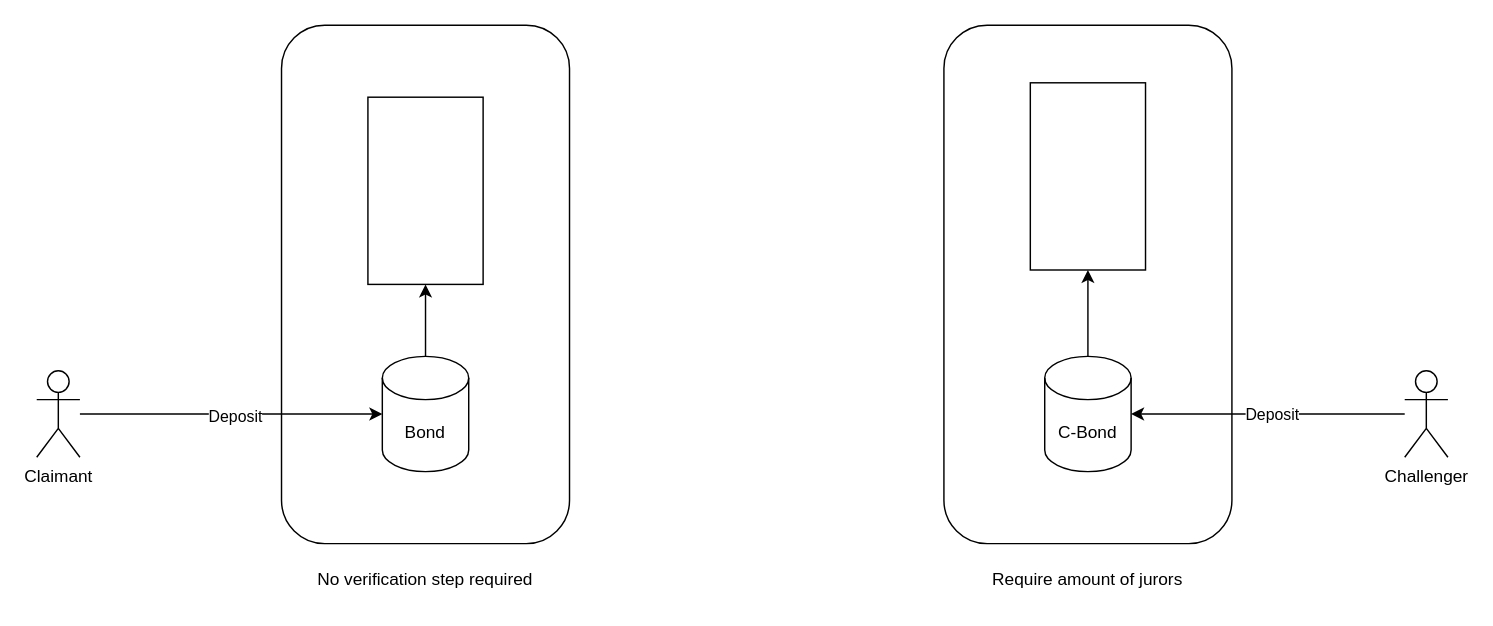
Image size: 1493x626. Some labels were removed from this diagram. The shapes that lost their labels are listed below. From the top down, each one's box as (x1, y1, x2, y2) in pixels, then its label:
(366, 96, 483, 284): Claim
(1029, 81, 1146, 270): Dispute
